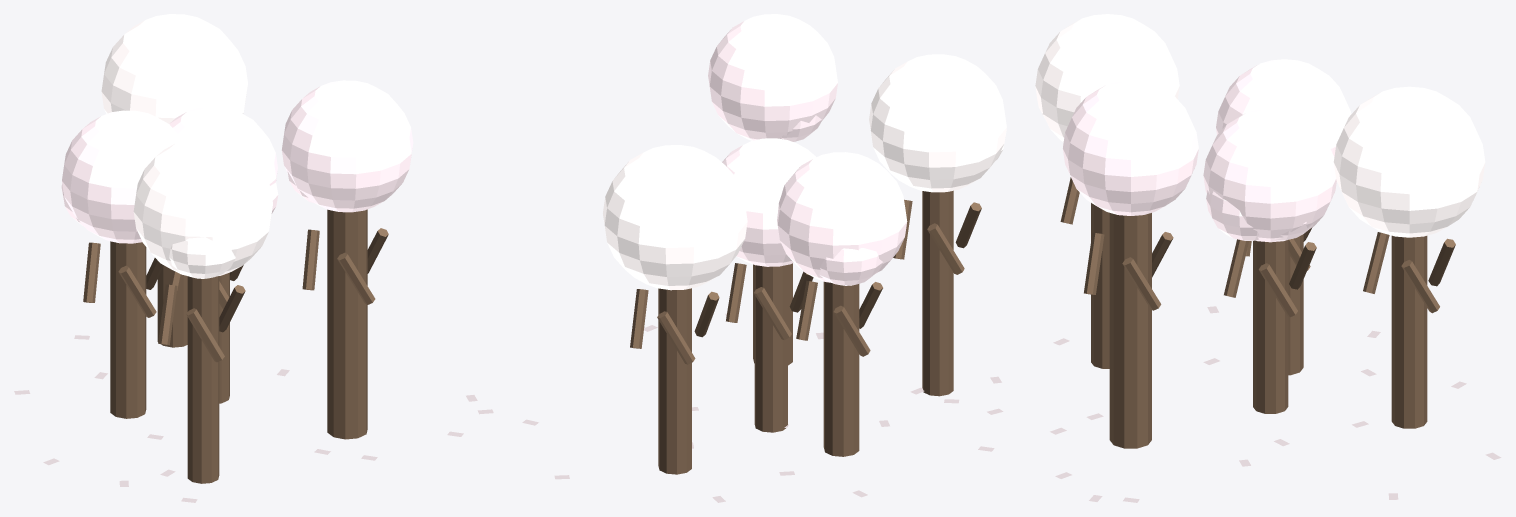
The model's file is cherry_grove.glb.
3 renders of one model, left to right at view 1: azimuth 30°, elevation 25°; view 2: azimuth 150°, elevation 25°; view 3: azimuth 270°, elevation 25°, orthographic. The views are drawn at different scales.
Visible parts, largest first — view 1: cherry_grove; view 2: cherry_grove; view 3: cherry_grove.
Part boxes in pixels (x1,y1,x2,y2): cherry_grove: (14,14,493,502); cherry_grove: (522,14,1006,502); cherry_grove: (1035,14,1501,502).
Bounding box in the file's own units: 3.04 × 2.55 × 3.04.
